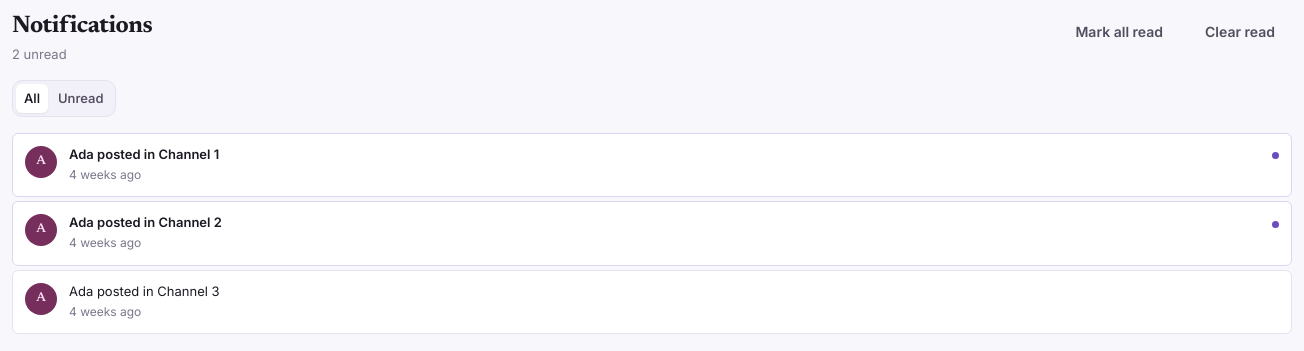
Test: the sweeps › marks everything read
Click the button "Mark all read" at (1119, 32), box left=1058, top=12, right=1180, bottom=52
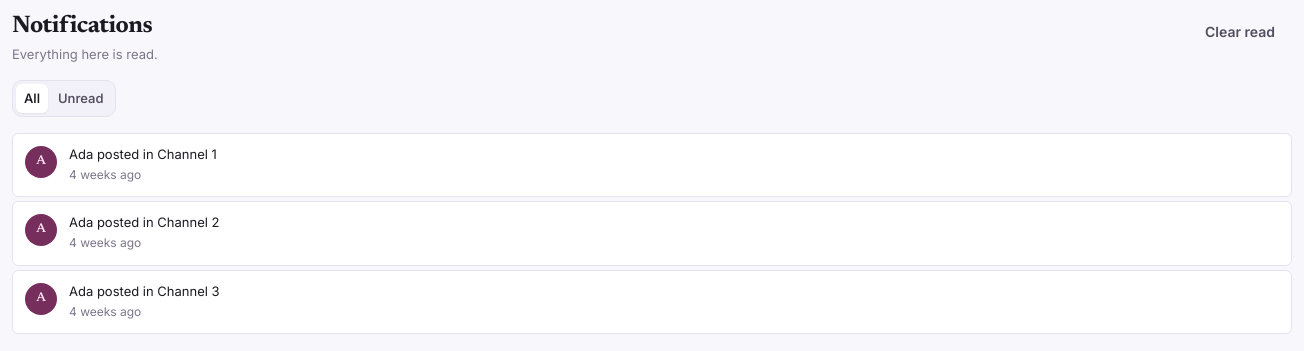
expect the text "Everything here is read." is shown: met, box left=12, top=44, right=158, bottom=64
expect the button "Mark all read" is gone: met
